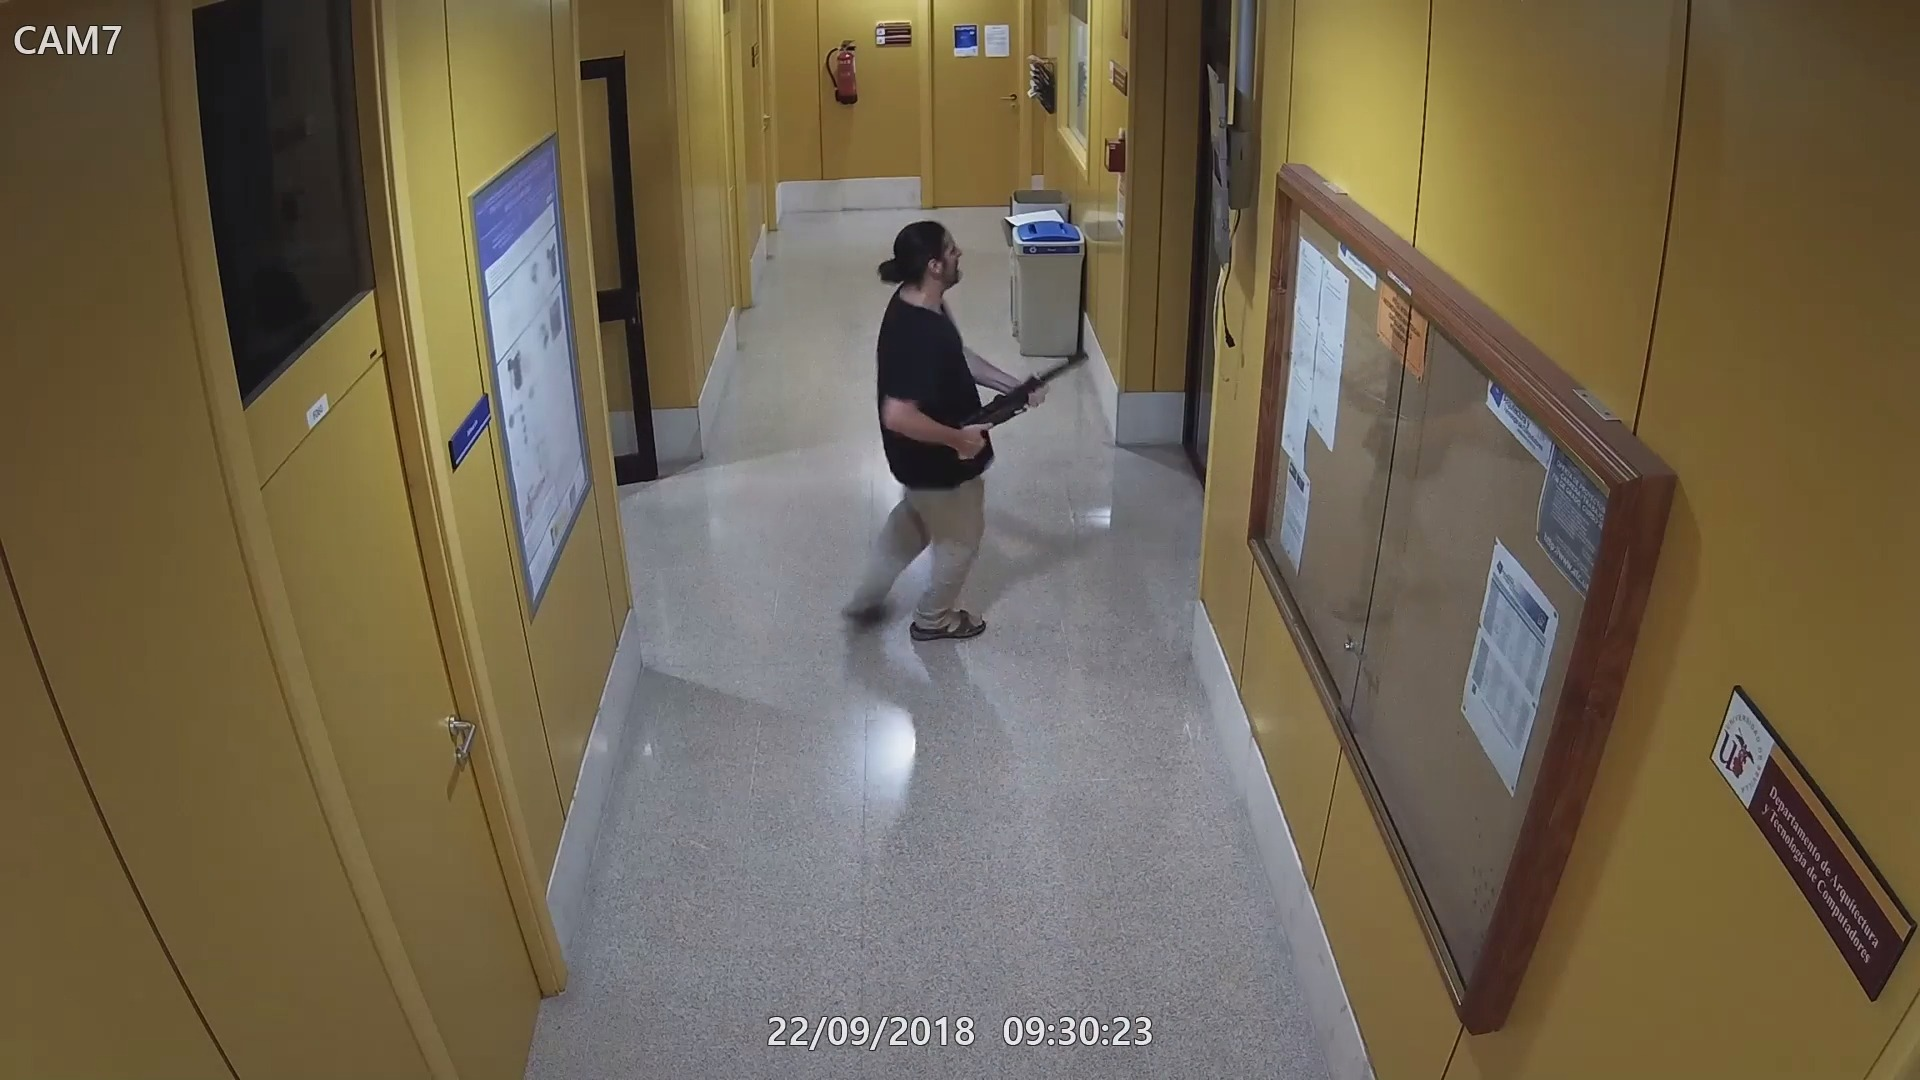Short_rifle: (936, 348, 1091, 465)
